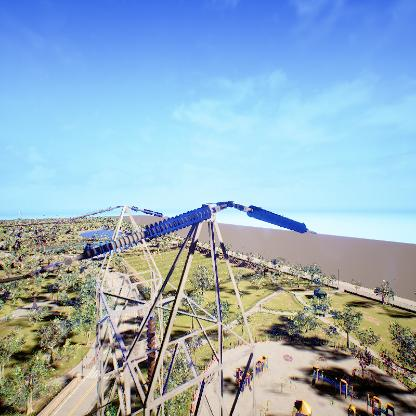insulator: (81, 205, 213, 260), (245, 204, 308, 234), (77, 204, 124, 219), (147, 318, 156, 387), (130, 204, 165, 218)
